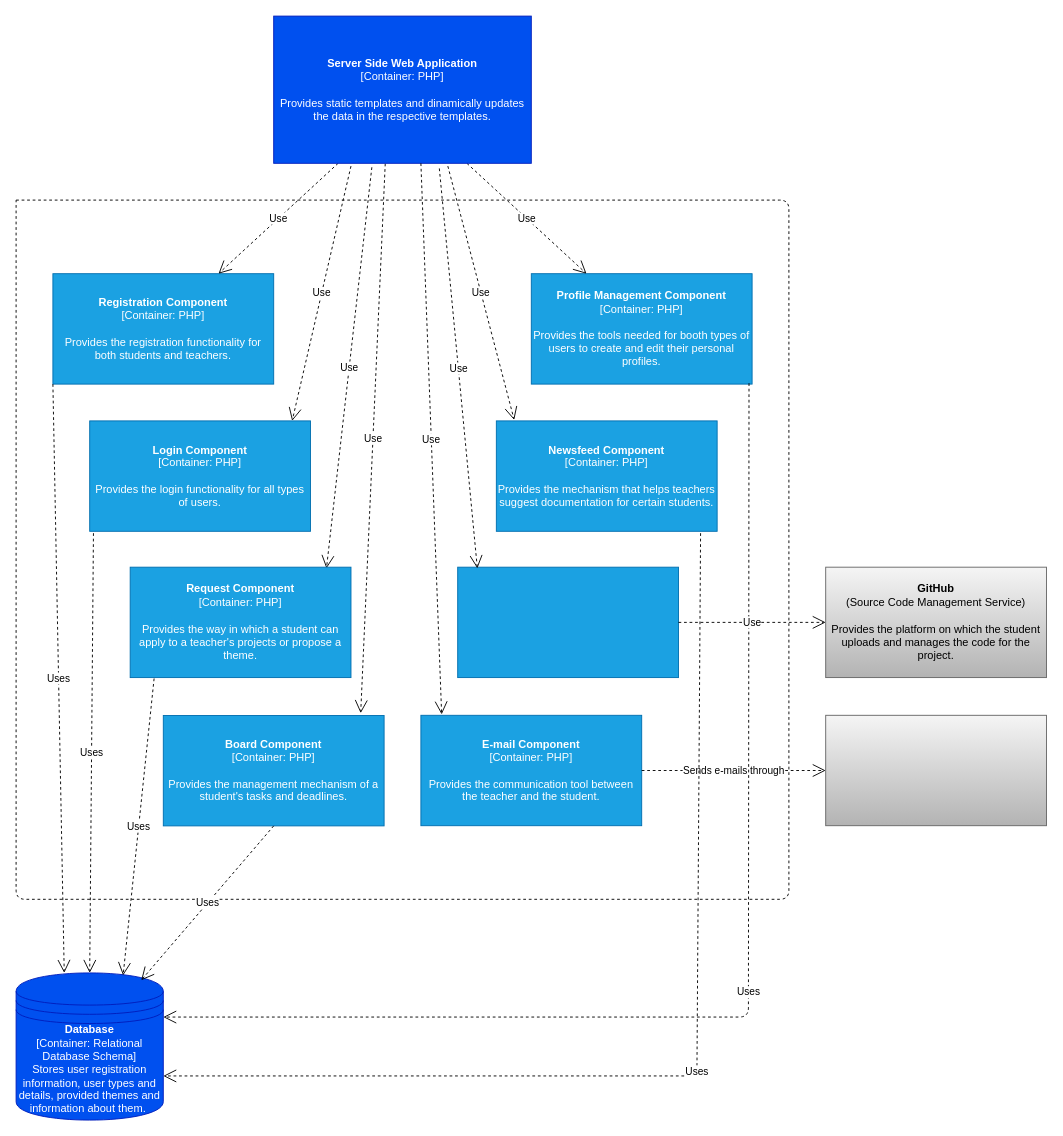
The diagram is 1063 pixels wide and 1136 high, and some of its shapes have lost their labels. The shapes that lost their labels are listed below. From the top down, each one's box as (x1, y1, x2, y2) in pixels, then its label:
(457, 566, 678, 678): GitHub Component [Container: PHP] Provides the code management tool.
(825, 714, 1046, 826): E-mail Service (Software System) via Atom
